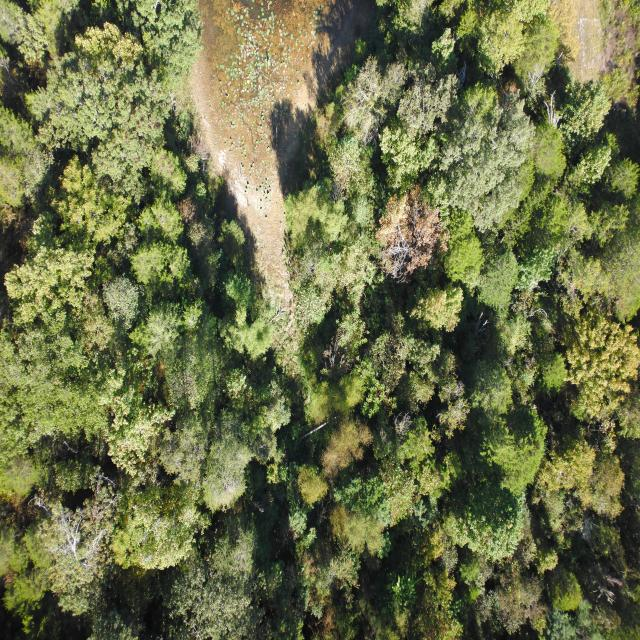Area of Interest: (7, 6, 631, 633)
